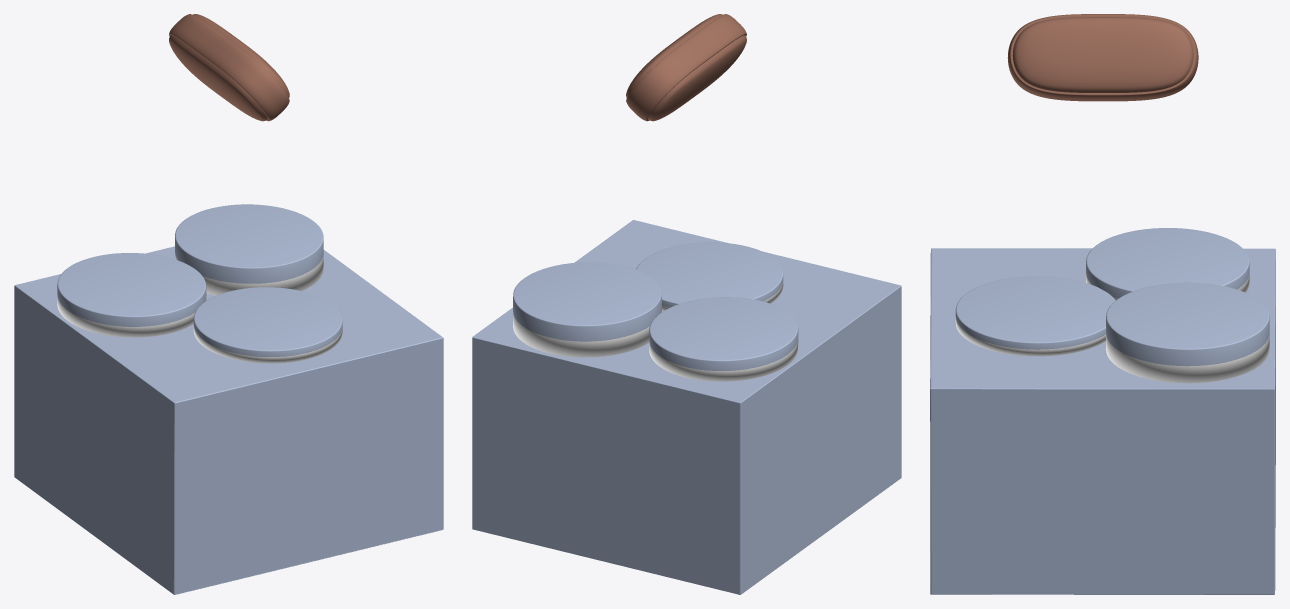
File: trajenta_duo_final.glb
3 views of the same model, side by side, from view 1: azimuth 30°, elevation 25°; view 2: azimuth 150°, elevation 25°; view 3: azimuth 270°, elevation 25° (orthographic). The views are drawn at different scales.
Visible parts, largest first — view 1: Platform, Cube.003; view 2: Platform, Cube.003; view 3: Platform, Cube.003.
Boxes of the visible parts, x1=… form: Platform: x1=14, y1=204, x2=443, y2=594; Cube.003: x1=169, y1=14, x2=289, y2=121; Platform: x1=472, y1=220, x2=901, y2=594; Cube.003: x1=626, y1=14, x2=746, y2=121; Platform: x1=930, y1=228, x2=1275, y2=594; Cube.003: x1=1007, y1=14, x2=1198, y2=101.
Size of the model in its own units: 0.7515 by 1.25 by 0.7774.
3 materials, 3 textured.
